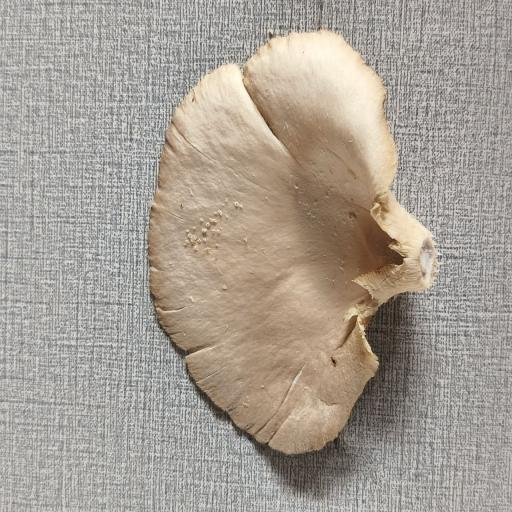White Oyster Mushroom: (146, 23, 448, 473)
